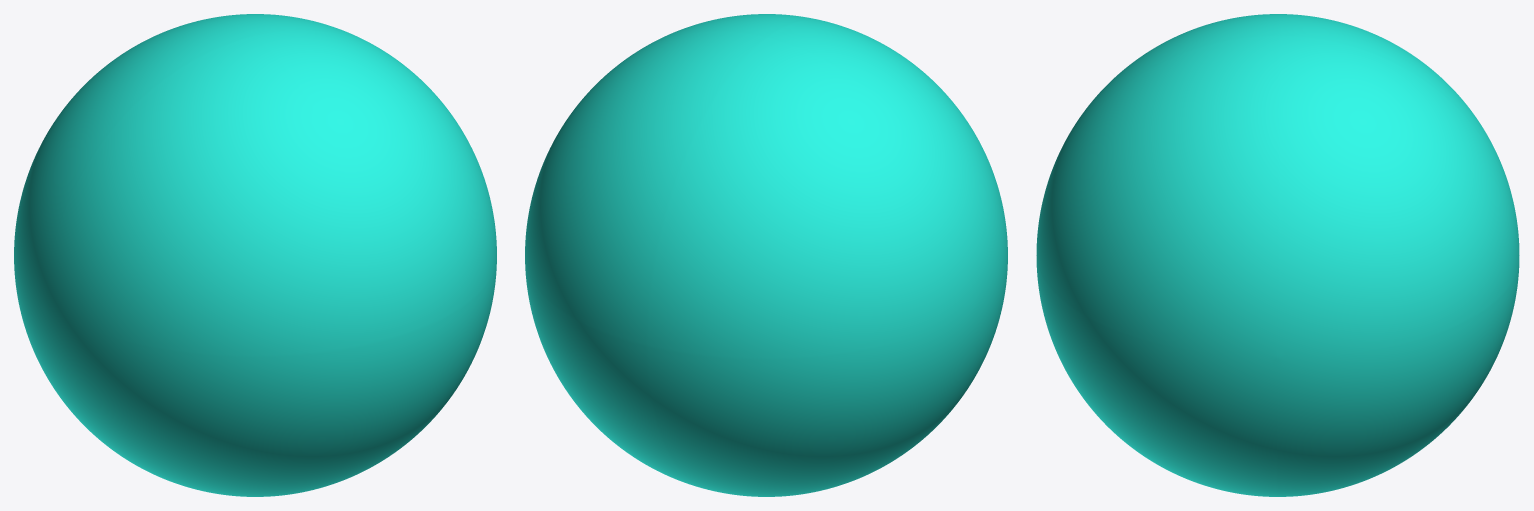
File: turquoise_sphere.glb
3 renders of one model, left to right at view 1: azimuth 30°, elevation 25°; view 2: azimuth 150°, elevation 25°; view 3: azimuth 270°, elevation 25°, orthographic.
Visible parts, largest first — view 1: sphereestlcleanermaterialmergergles; view 2: sphereestlcleanermaterialmergergles; view 3: sphereestlcleanermaterialmergergles.
Boxes of the visible parts, bbox=[...] form: sphereestlcleanermaterialmergergles: bbox=[14, 14, 496, 496]; sphereestlcleanermaterialmergergles: bbox=[525, 14, 1007, 496]; sphereestlcleanermaterialmergergles: bbox=[1036, 14, 1519, 496].
Size of the model in its own units: 20 by 20 by 20.
